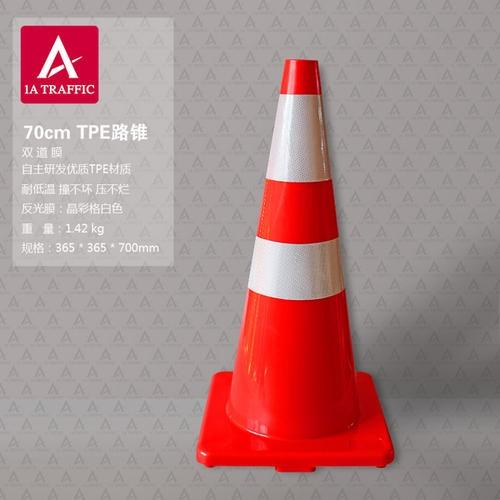cone_barrel: (204, 66, 377, 469)
